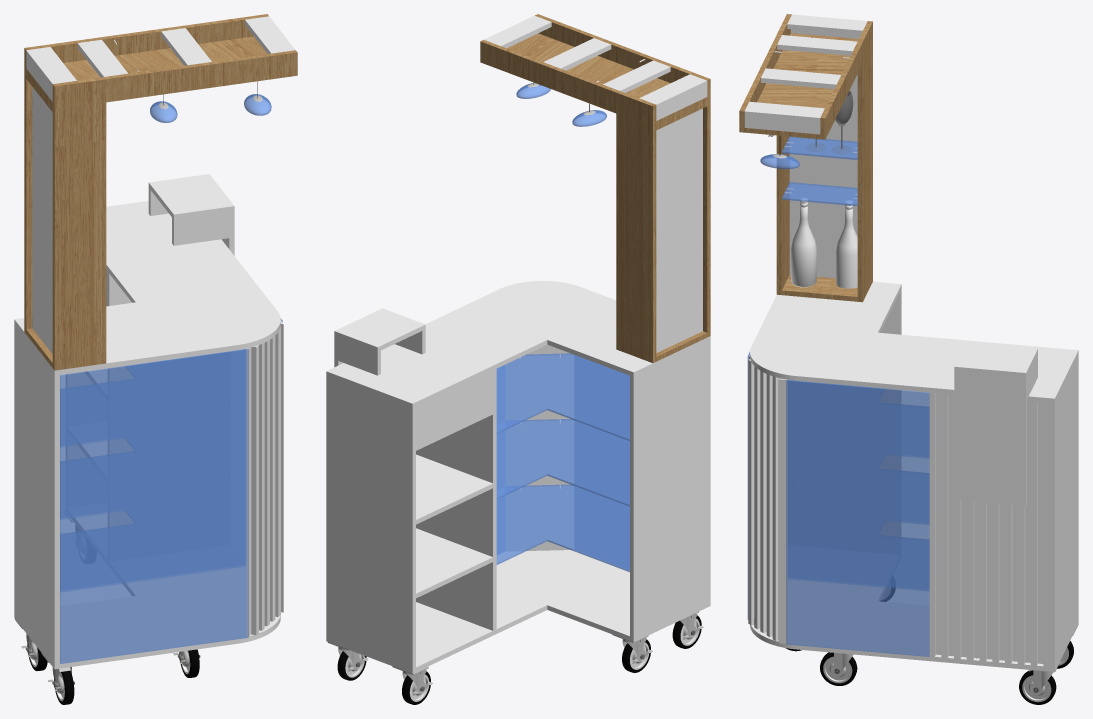
The model's file is couter.glb.
3 renders of one model, left to right at view 1: azimuth 30°, elevation 25°; view 2: azimuth 150°, elevation 25°; view 3: azimuth 270°, elevation 25°, orthographic. The views are drawn at different scales.
Parts seen in each view (by area): view 1: root; view 2: root; view 3: root.
Part boxes in pixels (x1,y1,x2,y2): root: [14, 14, 297, 704]; root: [326, 14, 710, 704]; root: [739, 14, 1078, 704].
Size of the model in its own units: 1.03 by 2.16 by 1.16.
16 materials, 3 textured.
